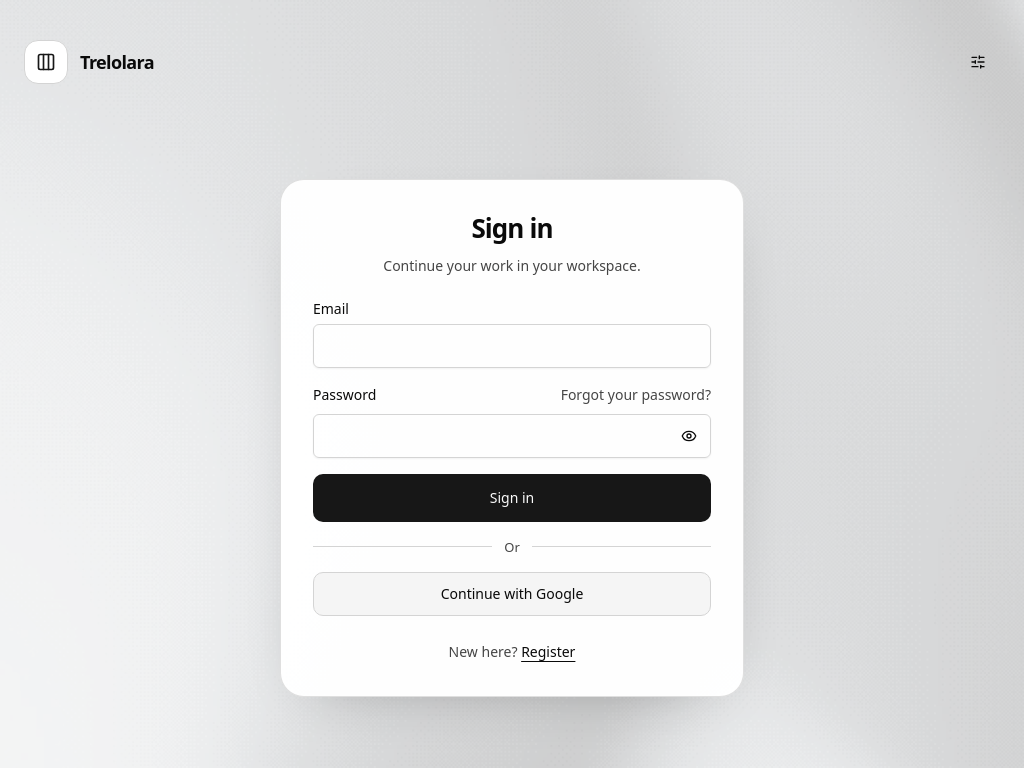
Scenario: keeps login drafts and displays rejected credentials without navigation
Type "member@example.test" into the field labelled "Email" at (512, 346), box [313,324,711,368]
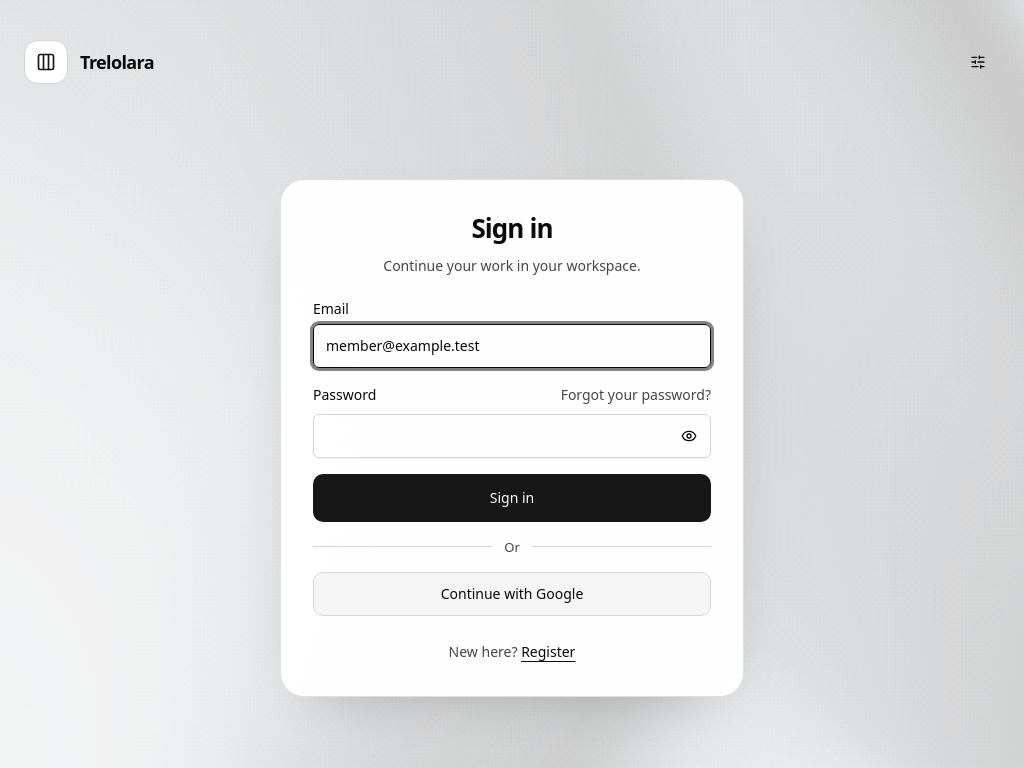
Type "test-password" into the password field labelled "Password" at (512, 436), box [313,414,711,458]
Then press Enter
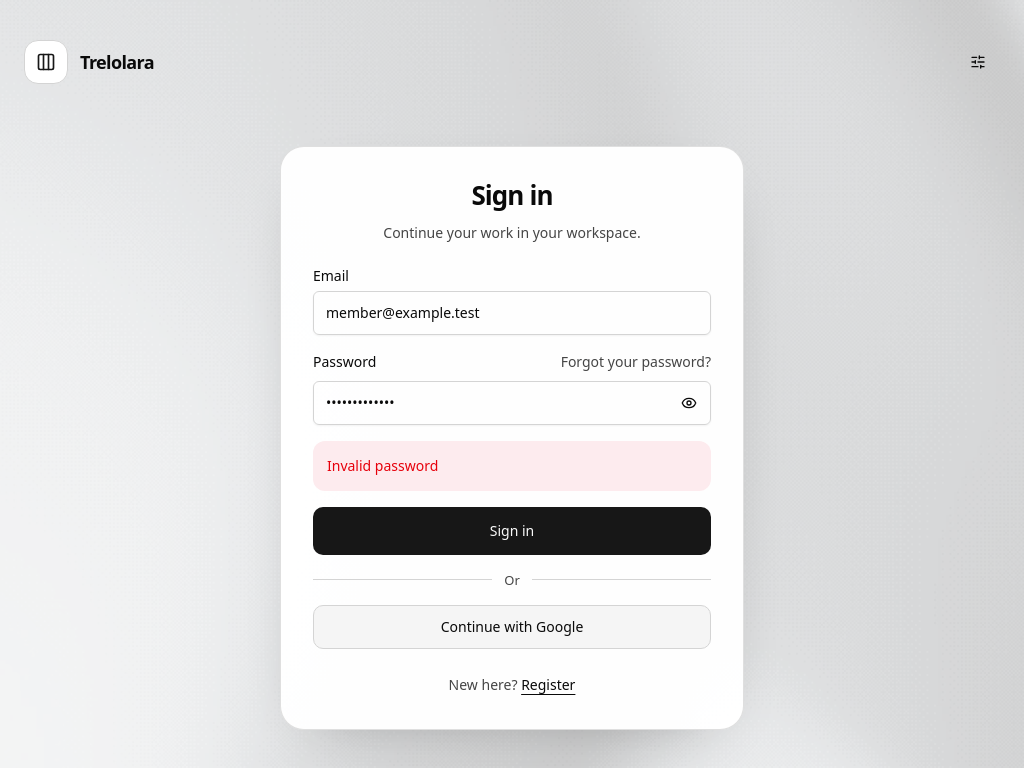
Expected: the message reads "Invalid password", [327,456,438,475]
